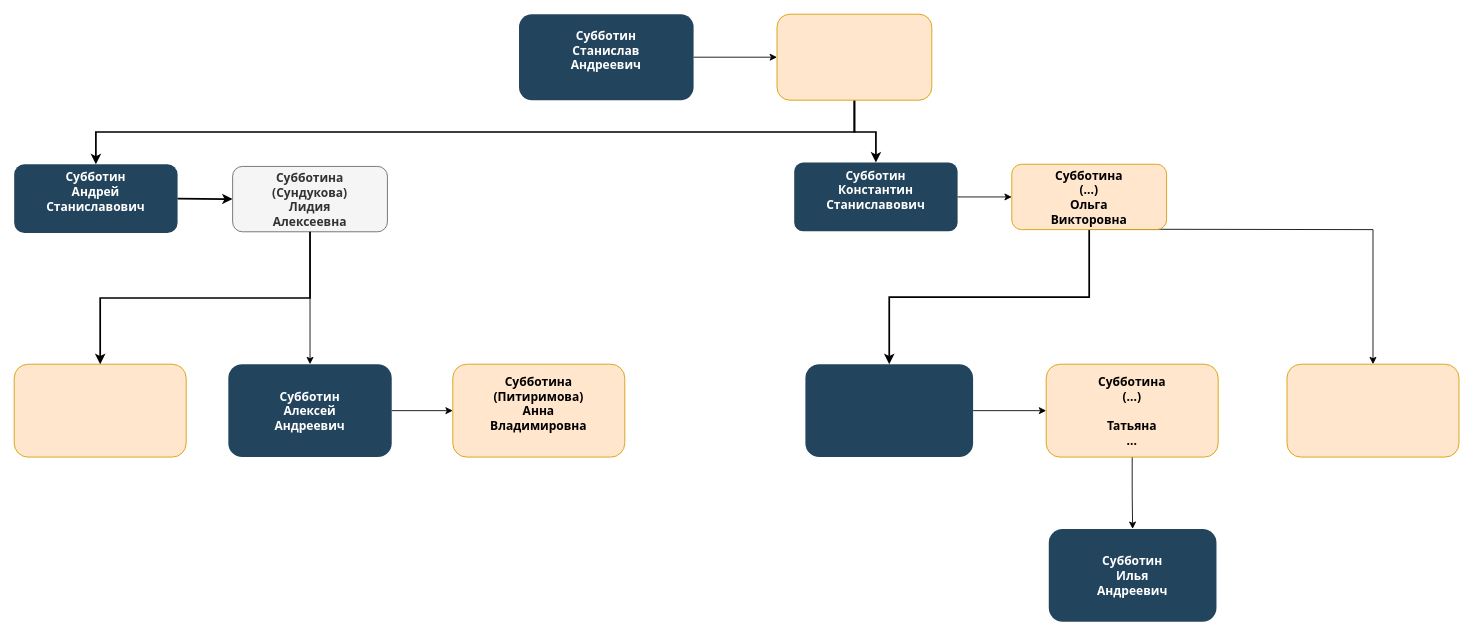
Some shapes in this 1473 by 636 pixel diagram are drawn without their labels. The centre of each missing label's shape, as x and y in pixels:
Слыжова (Субботина) Зоя Андреевна: point (99, 410)
Субботин Андрей Константинович: point (889, 410)
Субботина (Забродина) Татьяна Михайловна: point (854, 56)
Субботина Татьяна Константиновна: point (1372, 410)
